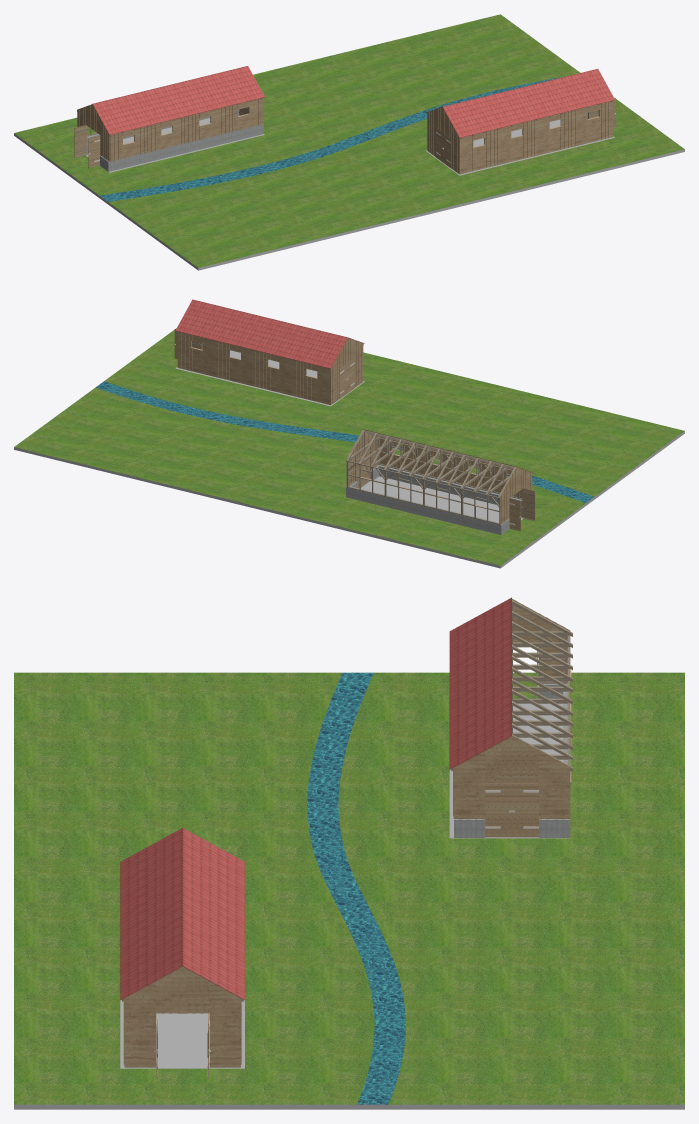
The model's file is Bruthaus_Unterfahlheim.glb.
3 renders of one model, top to bottom at view 1: azimuth 30°, elevation 25°; view 2: azimuth 150°, elevation 25°; view 3: azimuth 270°, elevation 25°, orthographic. The views are drawn at different scales.
Parts seen in each view (by area): view 1: VisualSceneNode1.2940, VisualSceneNode1.2936, VisualSceneNode1.2139, VisualSceneNode1.324, VisualSceneNode1.2935, VisualSceneNode1.002, VisualSceneNode1.2983, VisualSceneNode1.2942; view 2: VisualSceneNode1.2936, VisualSceneNode1.2940, VisualSceneNode1.2138, VisualSceneNode1.2935, VisualSceneNode1.2942, VisualSceneNode1, VisualSceneNode1.002, VisualSceneNode1.2983; view 3: VisualSceneNode1.2936, VisualSceneNode1.2940, VisualSceneNode1.2935, VisualSceneNode1.2138, VisualSceneNode1.324, VisualSceneNode1.2139, VisualSceneNode1.2983, VisualSceneNode1.2942.
Part boxes in pixels (x1,y1,x2,y2): VisualSceneNode1.2940: (108,97,684,270); VisualSceneNode1.2936: (14,14,580,197); VisualSceneNode1.2139: (443,69,614,137); VisualSceneNode1.324: (92,66,264,134); VisualSceneNode1.2935: (99,77,562,203); VisualSceneNode1.002: (106,125,260,171); VisualSceneNode1.2983: (426,119,614,175); VisualSceneNode1.2942: (86,118,264,172); VisualSceneNode1.2936: (14,387,585,568); VisualSceneNode1.2940: (104,328,684,499); VisualSceneNode1.2138: (175,299,347,368); VisualSceneNode1.2935: (96,381,594,505); VisualSceneNode1.2942: (361,476,523,522); VisualSceneNode1: (346,486,503,534); VisualSceneNode1.002: (379,465,522,506); VisualSceneNode1.2983: (175,350,364,406); VisualSceneNode1.2936: (338,672,684,1109); VisualSceneNode1.2940: (14,672,374,1109); VisualSceneNode1.2935: (307,672,405,1109); VisualSceneNode1.2138: (182,828,244,1000); VisualSceneNode1.324: (449,597,511,769); VisualSceneNode1.2139: (120,828,182,1000); VisualSceneNode1.2983: (120,1000,244,1068); VisualSceneNode1.2942: (449,703,569,838).
Size of the model in its own units: 38.16 by 4.44 by 25.05.
10 materials, 7 textured.
